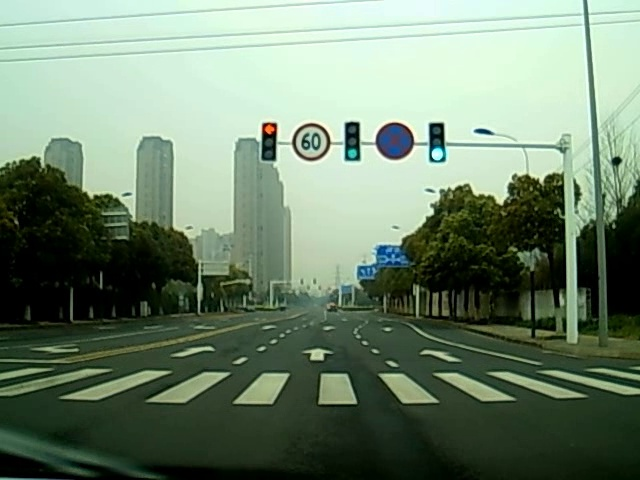Traffic_Light_go: (428, 124, 447, 163), (343, 123, 360, 161)
Traffic_Light_stop: (261, 123, 277, 160)
